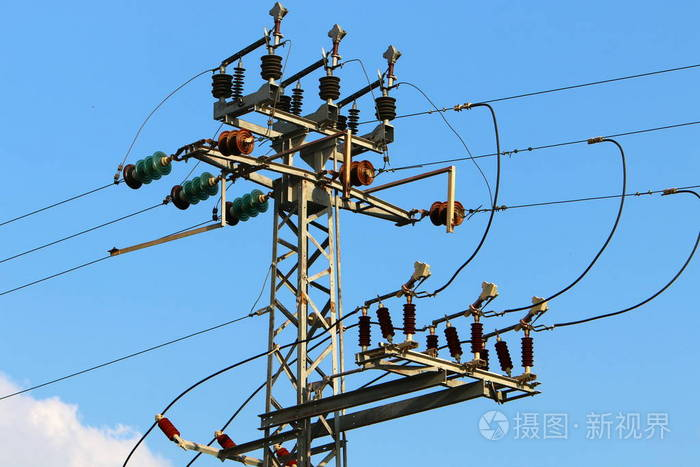insulator: (223, 187, 268, 228), (123, 151, 171, 187), (170, 173, 218, 209), (217, 128, 256, 157), (339, 160, 377, 187), (431, 201, 469, 228)
